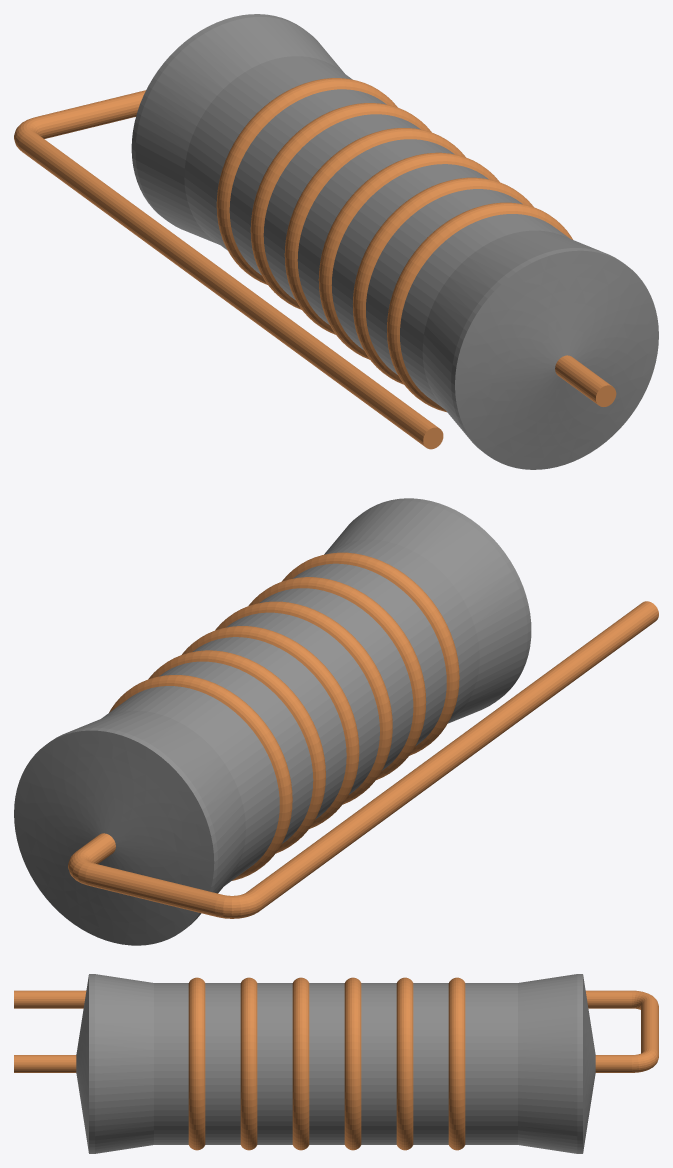
The model's file is L_Axial_L26.0mm_D9.0mm_P7.62mm_Vertical_Fastron_77A.glb.
The picture shows the model from 3 angles, top to bottom: view 1: azimuth 30°, elevation 25°; view 2: azimuth 150°, elevation 25°; view 3: azimuth 270°, elevation 25°; orthographic projection. The views are drawn at different scales.
Visible parts, largest first — view 1: Shape_IndexedFaceSet.002, Shape_IndexedFaceSet.018, Shape_IndexedFaceSet.025, Shape_IndexedFaceSet.017, Shape_IndexedFaceSet.004, Shape_IndexedFaceSet.005, Shape_IndexedFaceSet.015, Shape_IndexedFaceSet.011, Shape_IndexedFaceSet.013, Shape_IndexedFaceSet.007, Shape_IndexedFaceSet.009, Shape_IndexedFaceSet.006 (+9 smaller); view 2: Shape_IndexedFaceSet.020, Shape_IndexedFaceSet.004, Shape_IndexedFaceSet.025, Shape_IndexedFaceSet.017, Shape_IndexedFaceSet.018, Shape_IndexedFaceSet.013, Shape_IndexedFaceSet.009, Shape_IndexedFaceSet.011, Shape_IndexedFaceSet.007, Shape_IndexedFaceSet.015, Shape_IndexedFaceSet.005, Shape_IndexedFaceSet.016 (+10 smaller); view 3: Shape_IndexedFaceSet.018, Shape_IndexedFaceSet.004, Shape_IndexedFaceSet.017, Shape_IndexedFaceSet.007, Shape_IndexedFaceSet.009, Shape_IndexedFaceSet.011, Shape_IndexedFaceSet.013, Shape_IndexedFaceSet.015, Shape_IndexedFaceSet.005, Shape_IndexedFaceSet.006, Shape_IndexedFaceSet.008, Shape_IndexedFaceSet.010 (+13 smaller).
Part boxes in pixels (box(x1,y1,x2,y2)): Shape_IndexedFaceSet.002: box(455, 250, 658, 469); Shape_IndexedFaceSet.018: box(135, 17, 344, 244); Shape_IndexedFaceSet.025: box(18, 131, 439, 447); Shape_IndexedFaceSet.017: box(184, 56, 352, 250); Shape_IndexedFaceSet.004: box(422, 230, 600, 436); Shape_IndexedFaceSet.005: box(400, 214, 569, 409); Shape_IndexedFaceSet.015: box(229, 89, 386, 275); Shape_IndexedFaceSet.011: box(297, 139, 454, 324); Shape_IndexedFaceSet.013: box(263, 114, 420, 300); Shape_IndexedFaceSet.007: box(366, 189, 522, 374); Shape_IndexedFaceSet.009: box(331, 164, 488, 349); Shape_IndexedFaceSet.006: box(387, 202, 572, 412); Shape_IndexedFaceSet.020: box(14, 730, 214, 945); Shape_IndexedFaceSet.004: box(324, 501, 527, 723); Shape_IndexedFaceSet.025: box(246, 601, 658, 910); Shape_IndexedFaceSet.017: box(101, 686, 279, 885); Shape_IndexedFaceSet.018: box(70, 710, 245, 893); Shape_IndexedFaceSet.013: box(193, 637, 346, 819); Shape_IndexedFaceSet.009: box(259, 588, 413, 770); Shape_IndexedFaceSet.011: box(226, 612, 379, 794); Shape_IndexedFaceSet.007: box(292, 563, 446, 746); Shape_IndexedFaceSet.015: box(159, 661, 313, 843); Shape_IndexedFaceSet.005: box(326, 539, 479, 721); Shape_IndexedFaceSet.016: box(109, 675, 292, 880); Shape_IndexedFaceSet.018: box(518, 974, 577, 1153); Shape_IndexedFaceSet.004: box(95, 974, 153, 1153); Shape_IndexedFaceSet.017: box(465, 983, 517, 1144); Shape_IndexedFaceSet.007: box(205, 983, 240, 1144); Shape_IndexedFaceSet.009: box(257, 983, 292, 1144); Shape_IndexedFaceSet.011: box(309, 983, 344, 1144); Shape_IndexedFaceSet.013: box(361, 983, 396, 1144); Shape_IndexedFaceSet.015: box(413, 983, 448, 1144); Shape_IndexedFaceSet.005: box(154, 983, 188, 1144); Shape_IndexedFaceSet.006: box(188, 977, 205, 1150); Shape_IndexedFaceSet.008: box(240, 977, 257, 1150); Shape_IndexedFaceSet.010: box(292, 977, 309, 1150).
Bounding box in the file's own units: 4.95 × 3.54 × 12.7.
